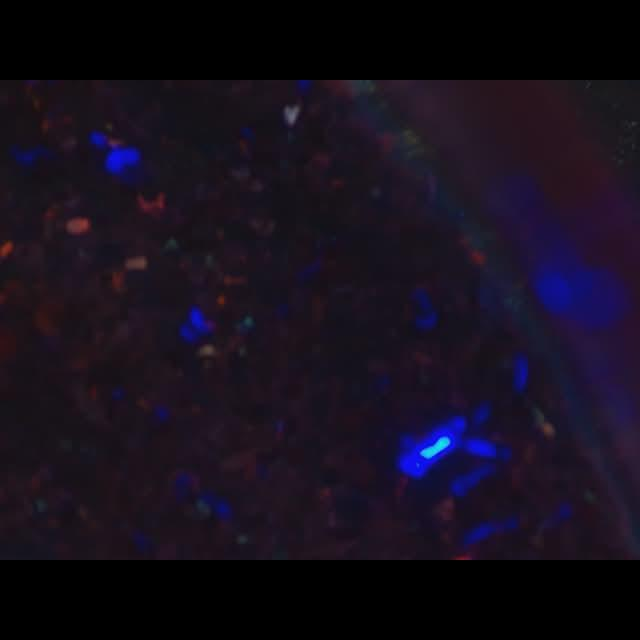microbeads: (283, 103, 300, 126)
